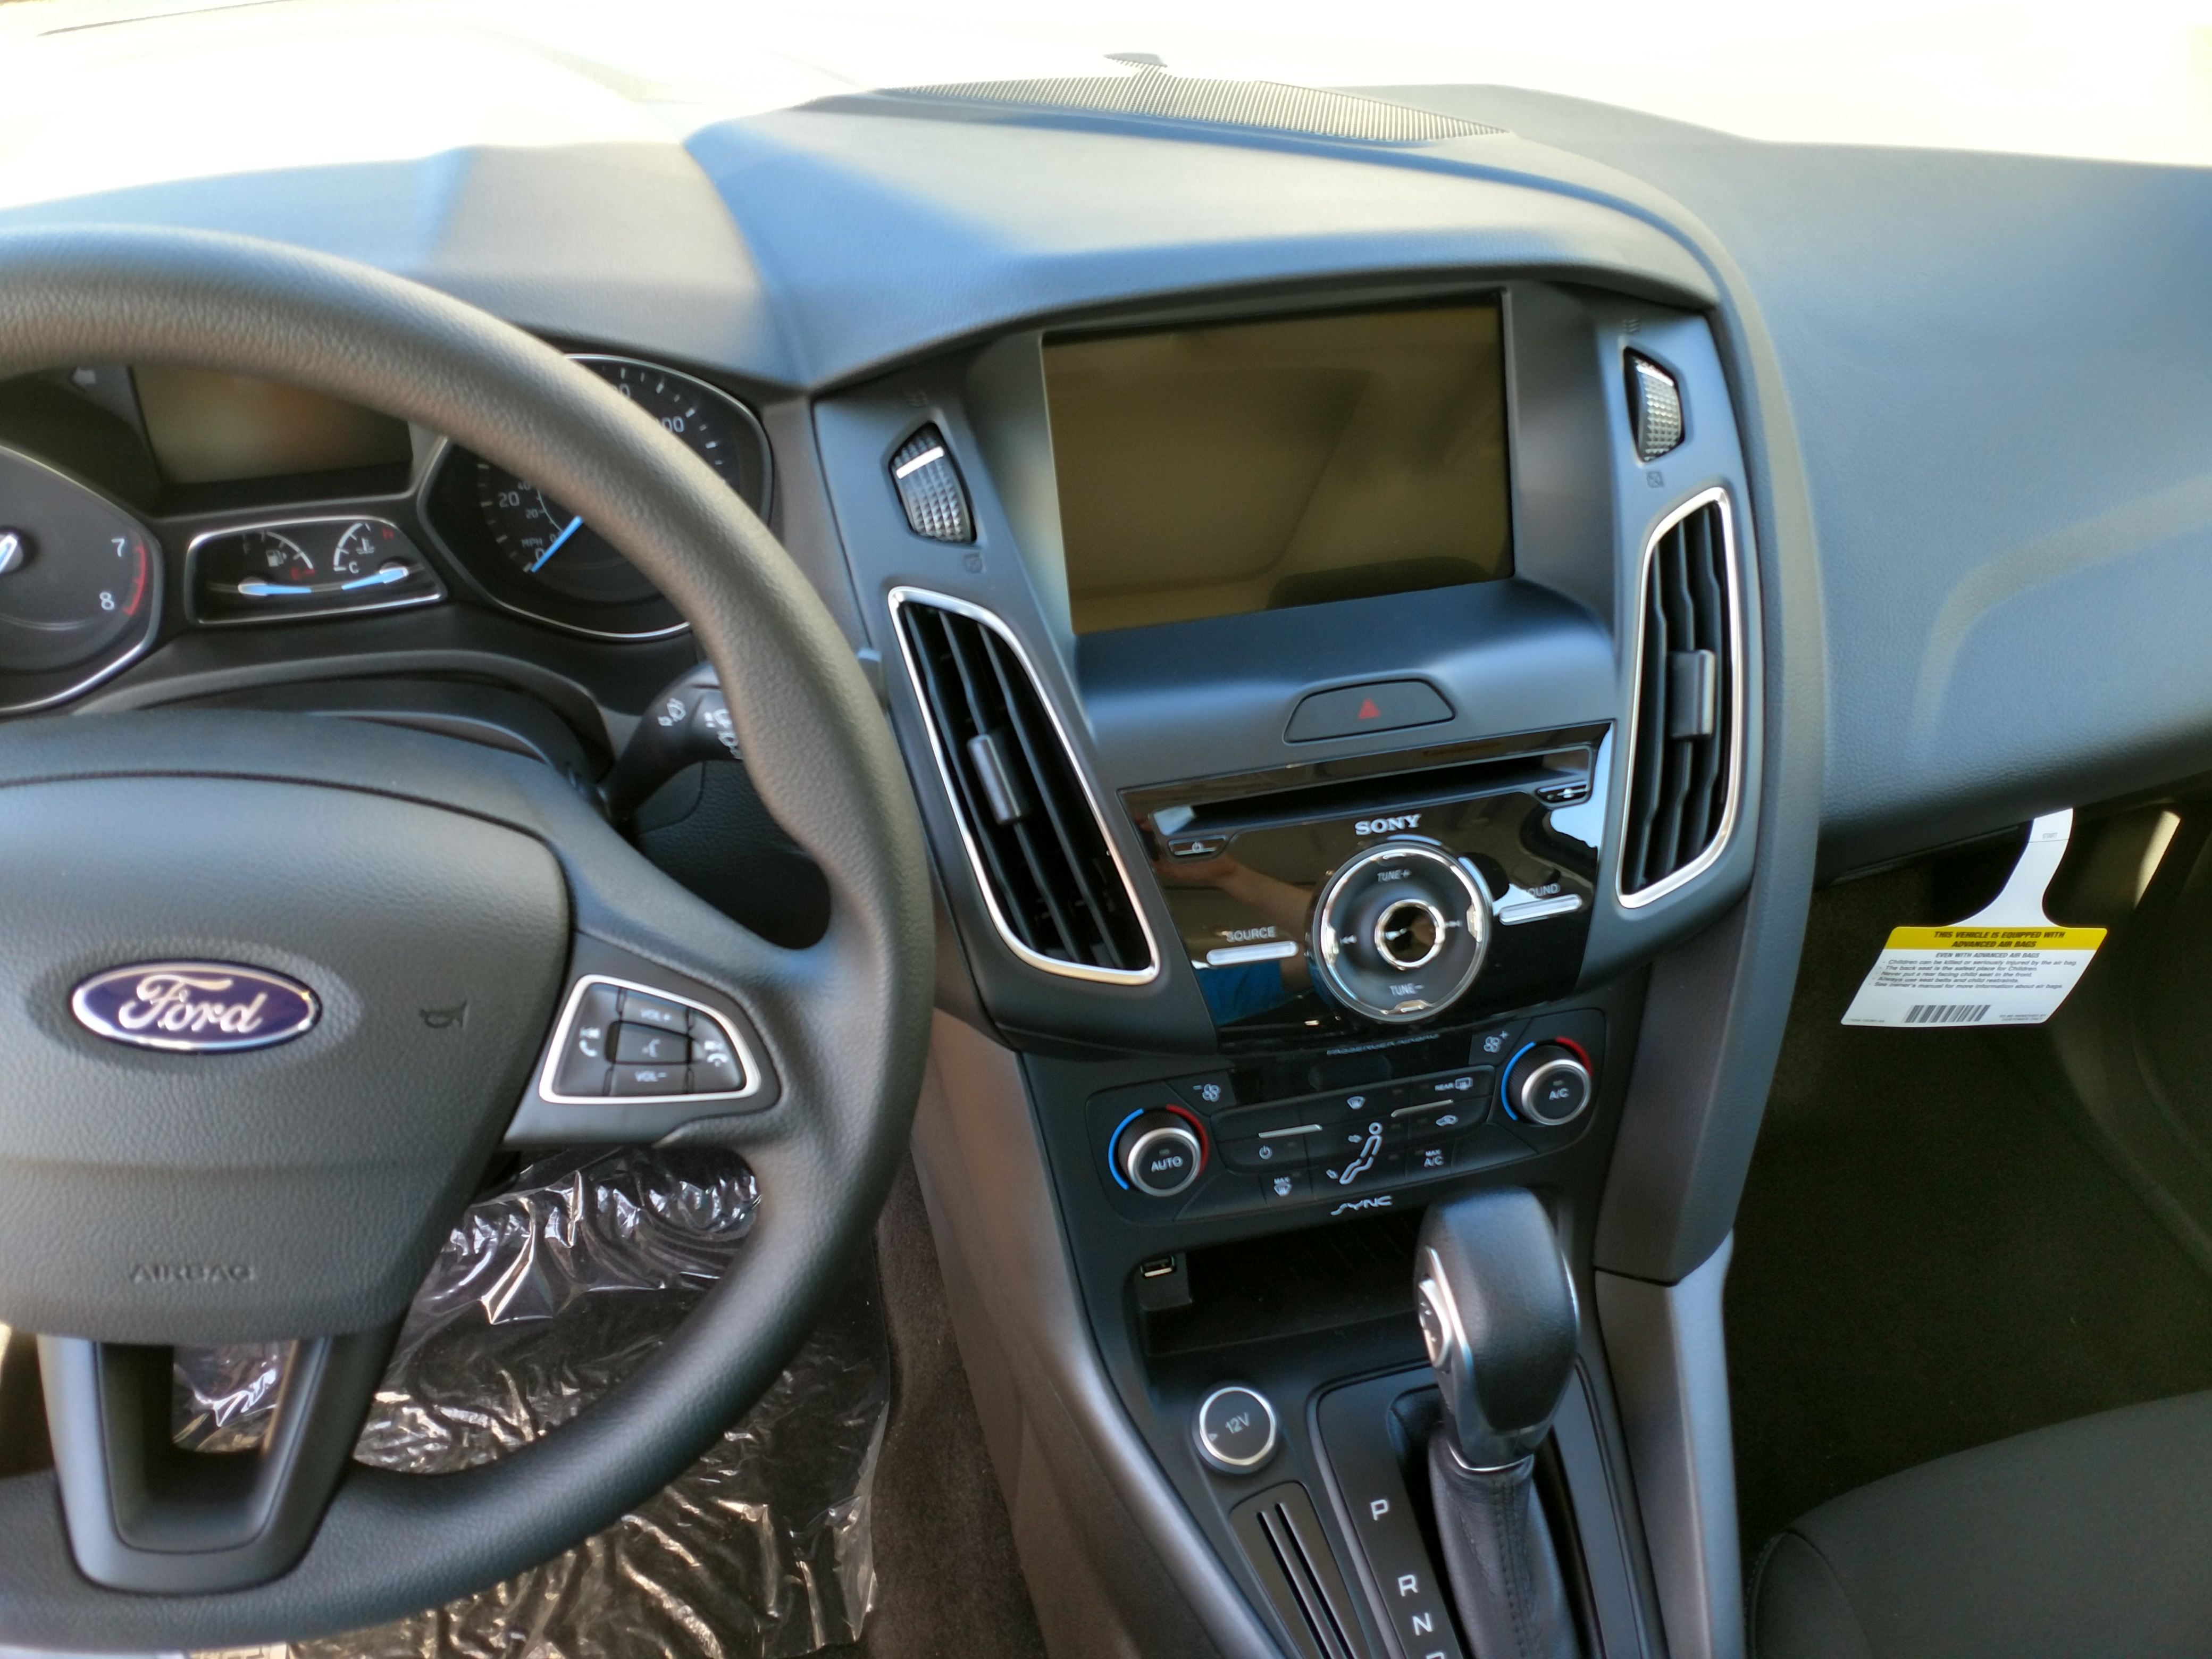Ford: (47, 938, 348, 1082)
